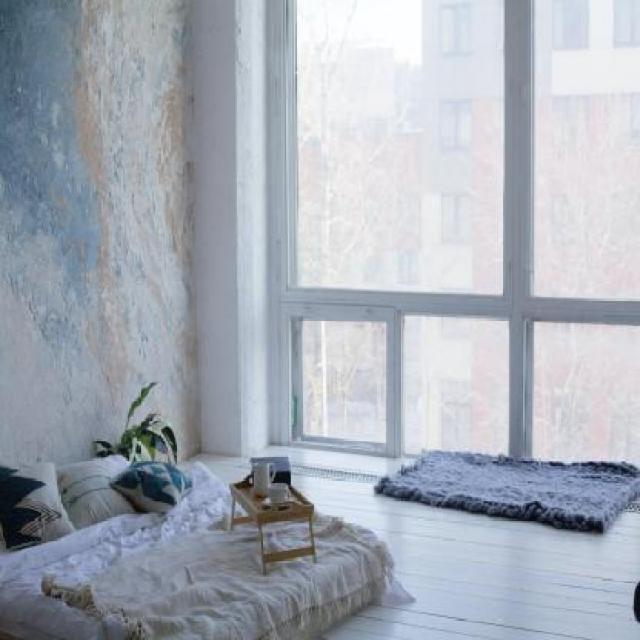Floor: (291, 474, 640, 640), (175, 444, 418, 490)
